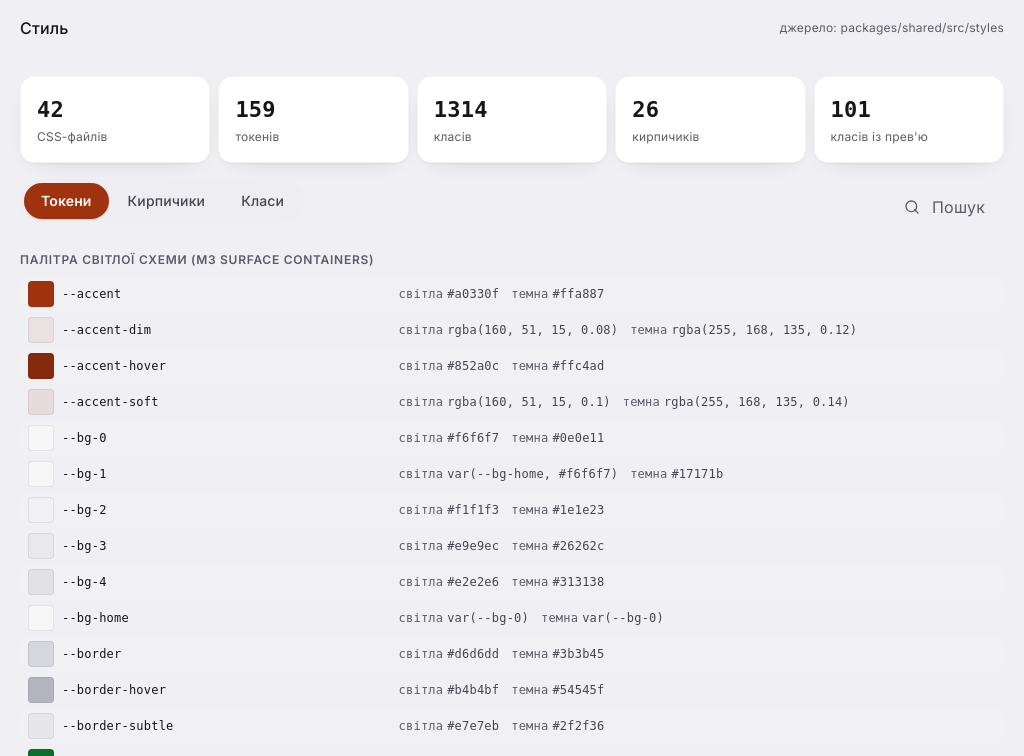
Scenario: сторінка «Стиль» › перелік класів приходить із CSS — файл і клас видно
Expected: the text "токенів" is shown, [235, 129, 279, 144]
Click the tab "Класи" at (263,201), box [224, 183, 301, 219]
(page scrolled)
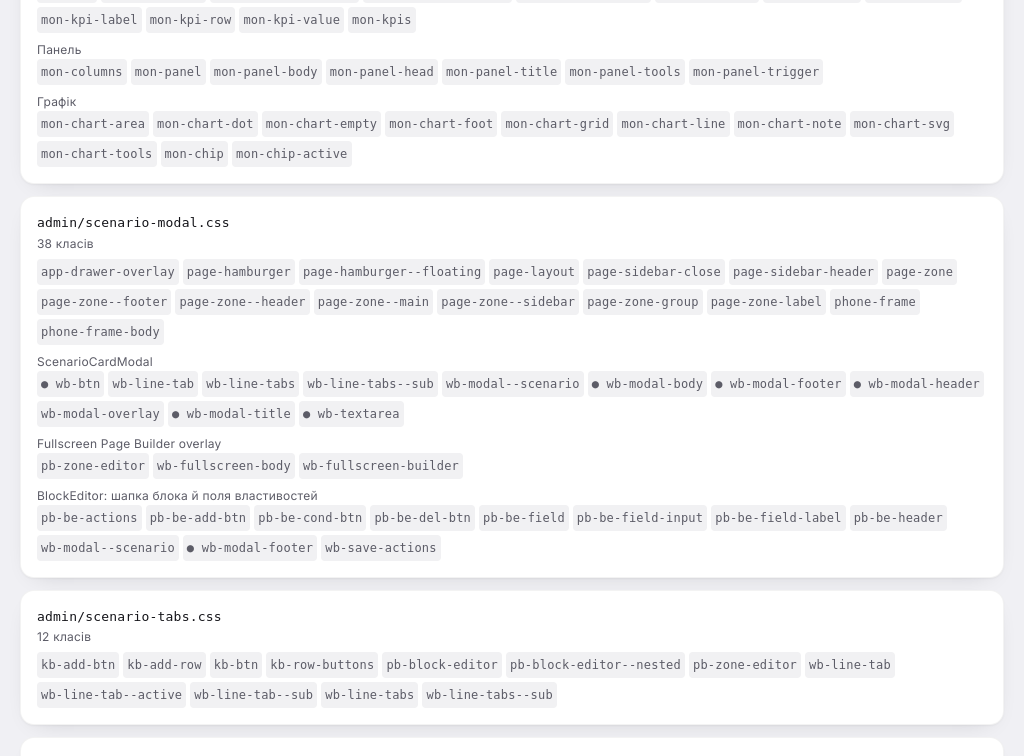
Now the text "● wb-btn" is shown, box [37, 370, 104, 396]
